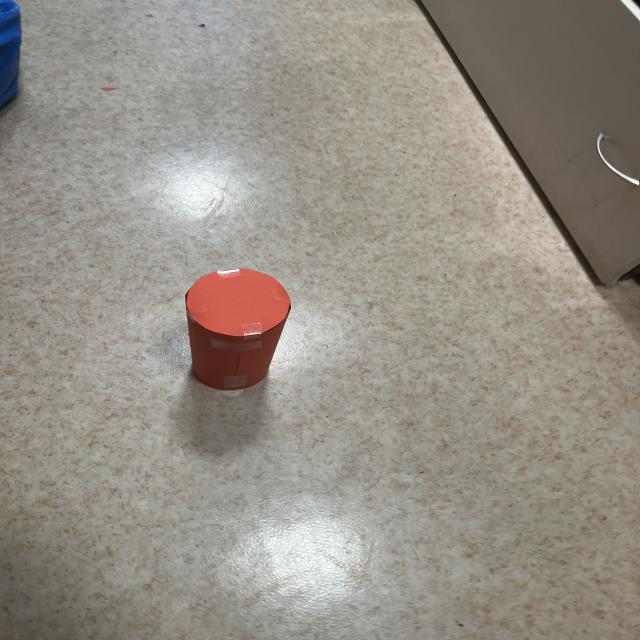przeszkoda: (185, 269, 290, 390)
